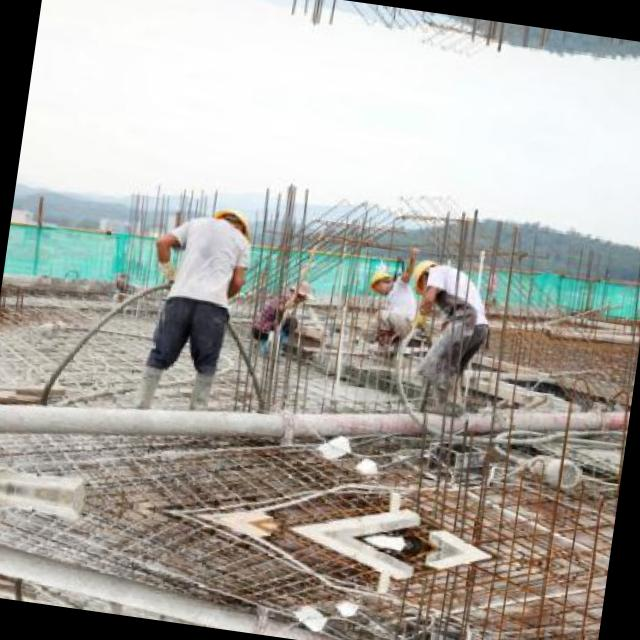helmet: (210, 202, 252, 242), (409, 252, 443, 297), (287, 276, 315, 306), (368, 266, 397, 292)
